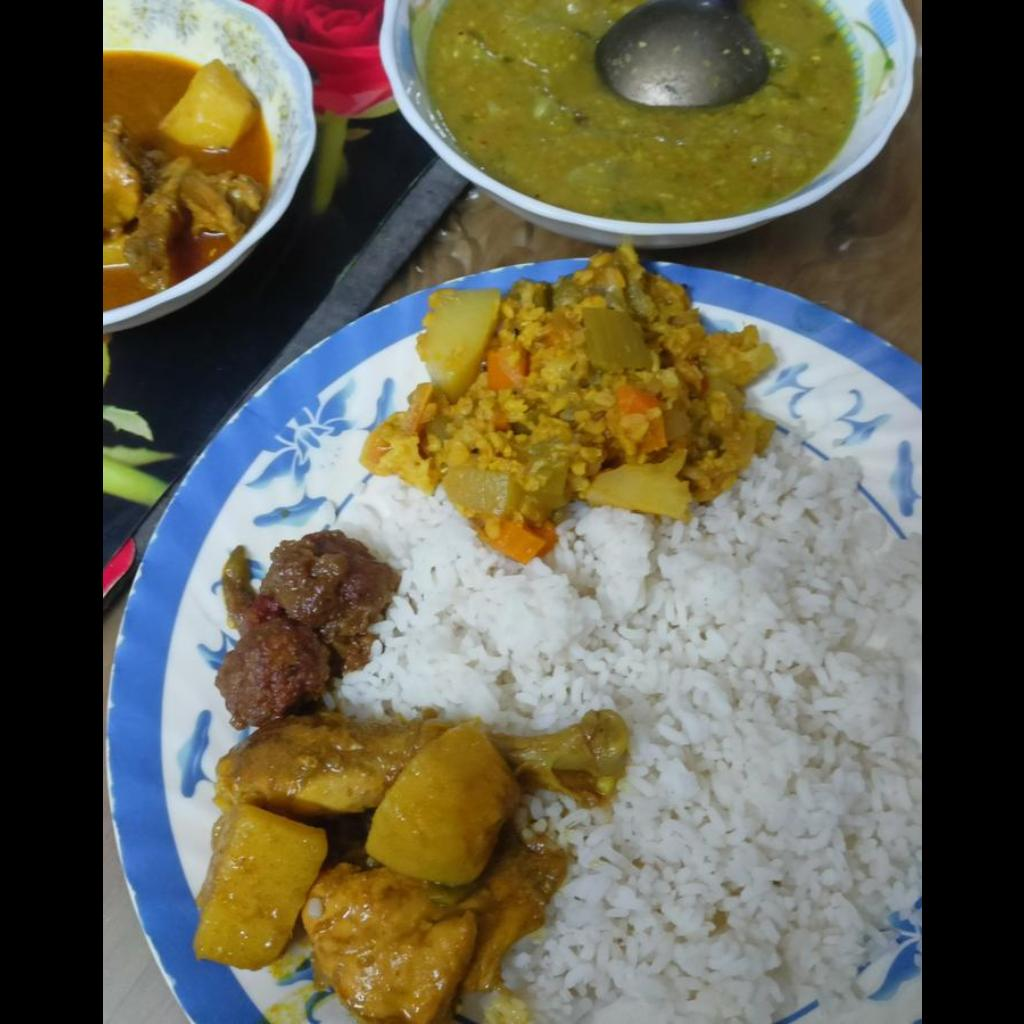beef: (216, 531, 399, 727)
chicken: (219, 717, 615, 1022), (102, 119, 265, 309)
daal: (428, 0, 870, 224)
potato: (160, 60, 258, 154)
rice: (344, 431, 920, 1010)
vegetable: (368, 257, 769, 562)
